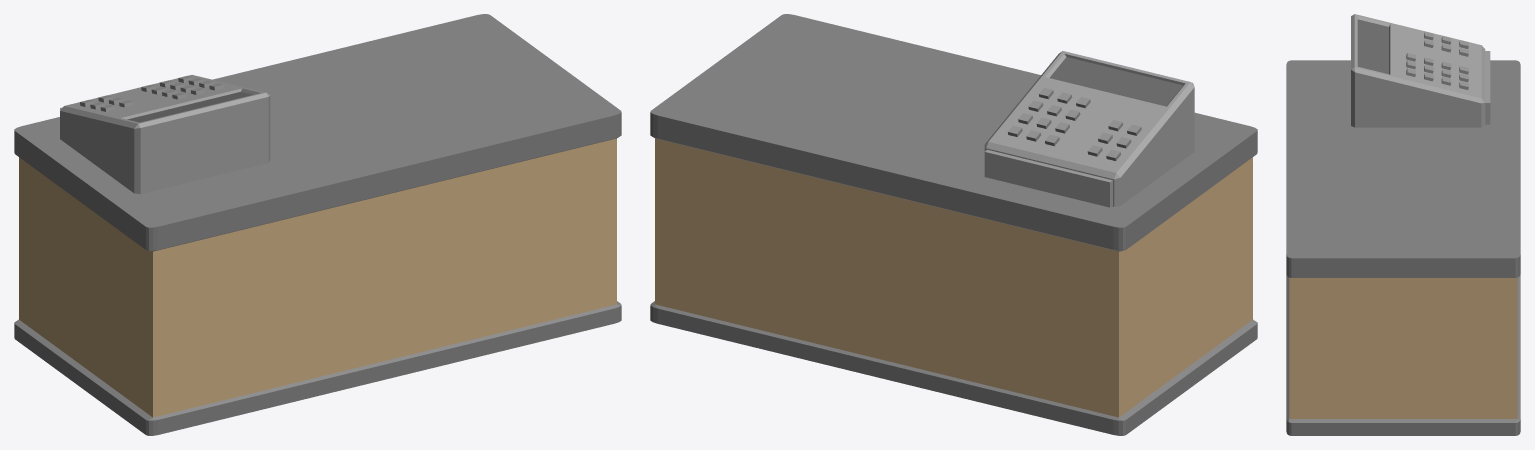
Rendered from Table__cash_register.fbx.
3 views of the same model, side by side, from view 1: azimuth 30°, elevation 25°; view 2: azimuth 150°, elevation 25°; view 3: azimuth 270°, elevation 25° (orthographic). The views are drawn at different scales.
Visible parts, largest first — view 1: Cube.002, Cube.008; view 2: Cube.002, Cube.008; view 3: Cube.002, Cube.008.
Boxes of the visible parts, x1,y1,x2,y2 form: Cube.002: (14, 14, 621, 435); Cube.008: (60, 75, 270, 193); Cube.002: (650, 14, 1257, 435); Cube.008: (984, 51, 1194, 207); Cube.002: (1286, 60, 1520, 435); Cube.008: (1351, 14, 1490, 127).
Size of the model in its own units: 200 by 111 by 100.
